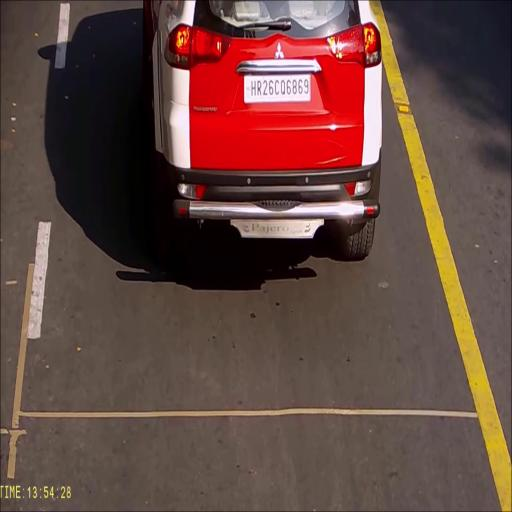License plate: (243, 73, 312, 105)
Vehicle: (143, 0, 383, 263)
